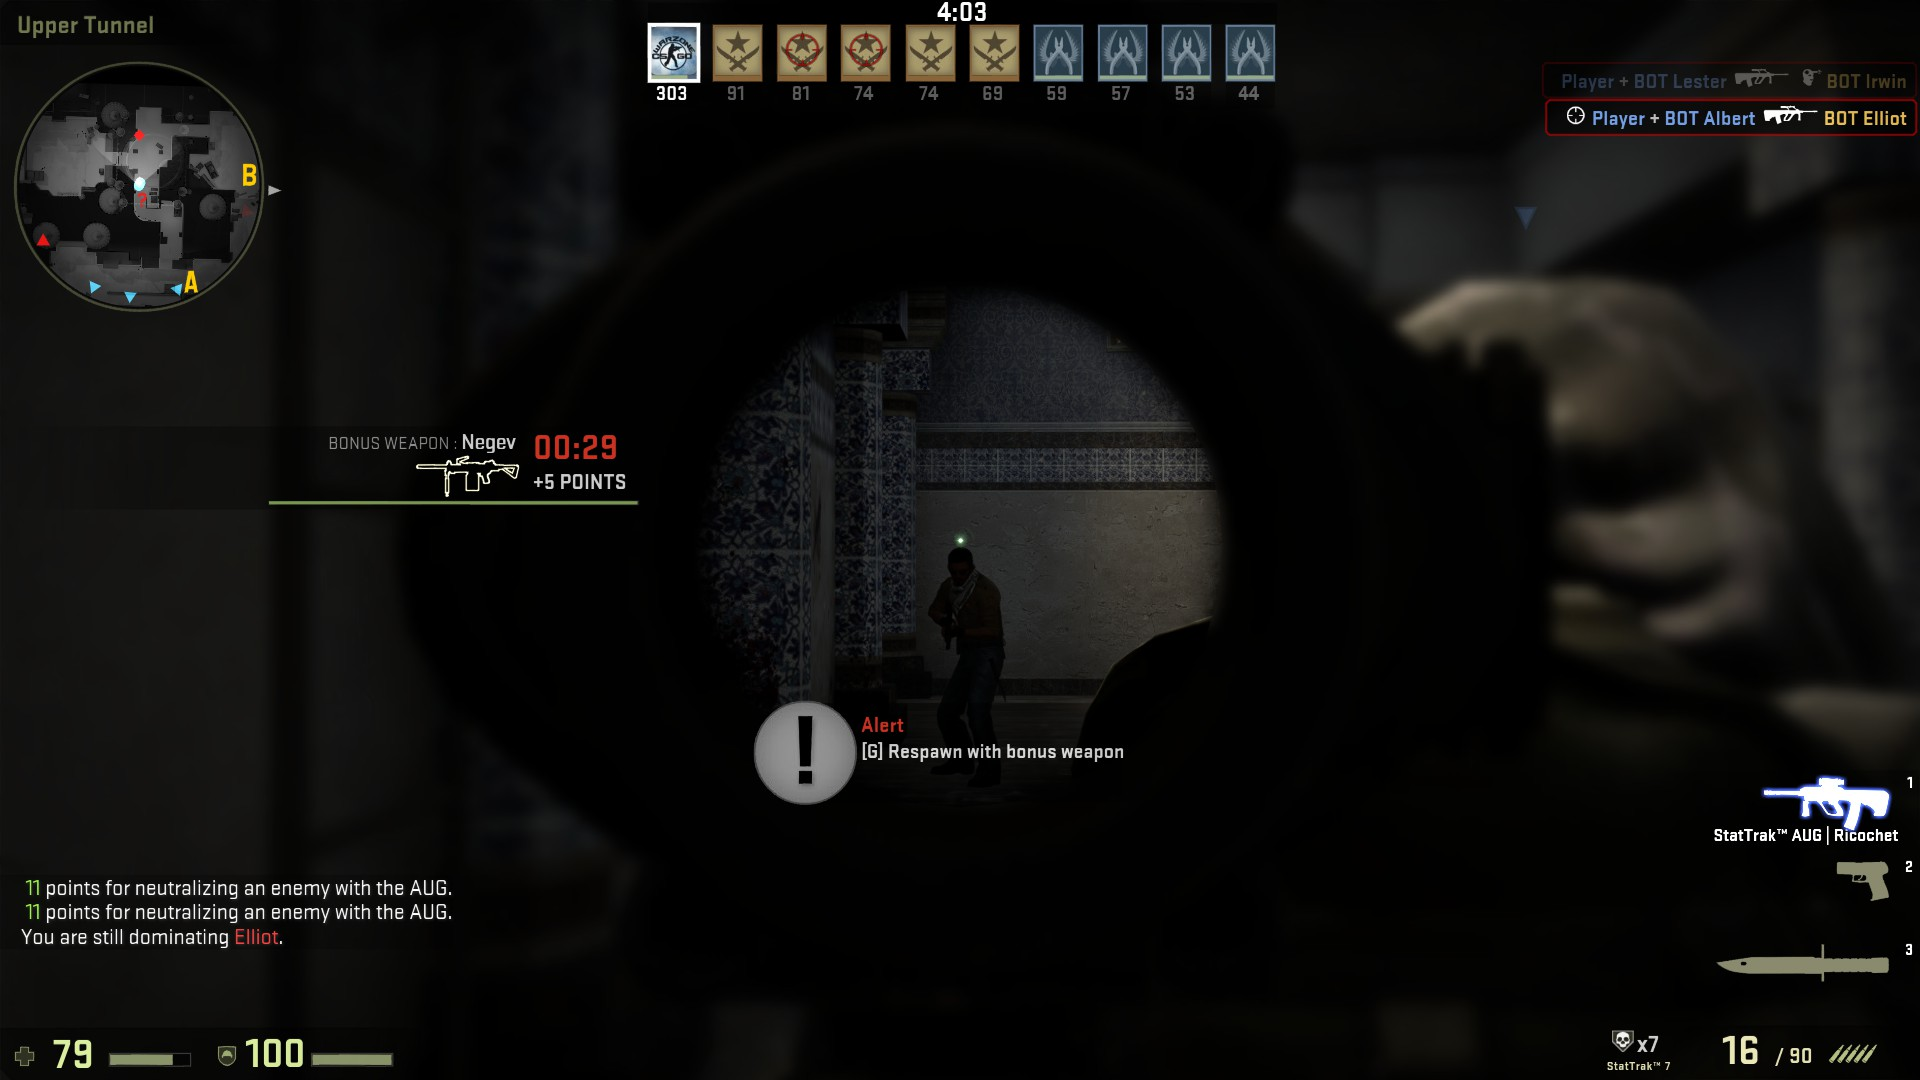t: (920, 538, 1021, 791)
th: (935, 542, 982, 597)
